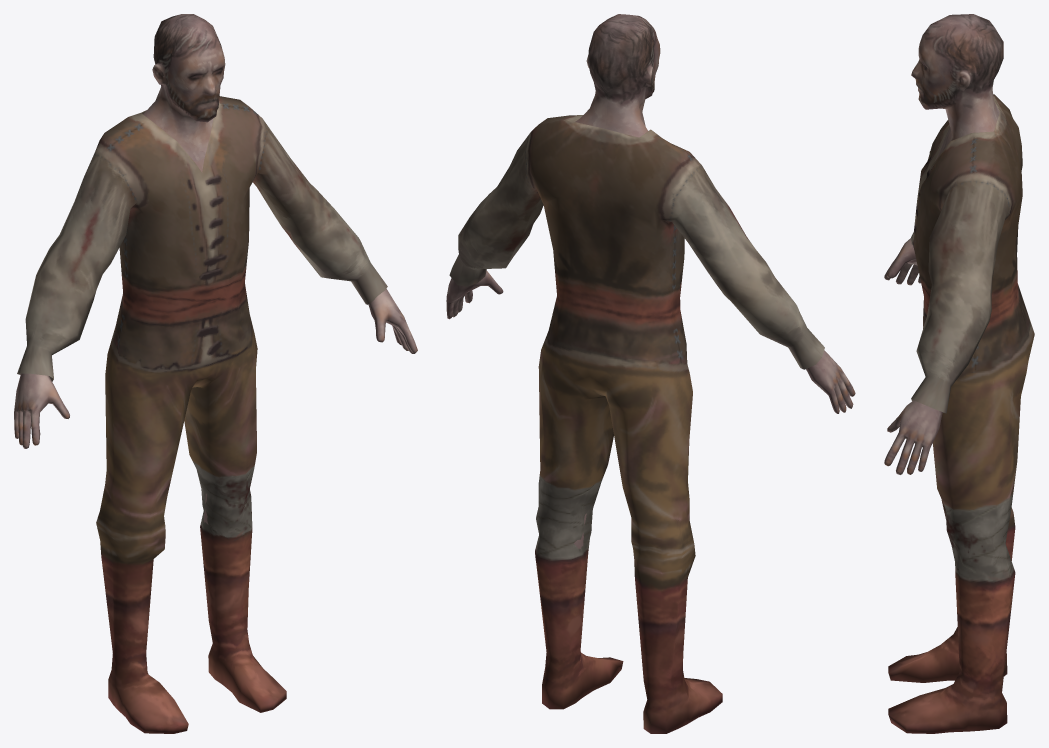
The model's file is Char2_All.fbx.
The picture shows the model from 3 angles, left to right: view 1: azimuth 30°, elevation 25°; view 2: azimuth 150°, elevation 25°; view 3: azimuth 270°, elevation 25°; orthographic projection.
Visible parts, largest first — view 1: C2_Cloth_low, C2_Body_low; view 2: C2_Cloth_low, C2_Body_low; view 3: C2_Cloth_low, C2_Body_low.
Boxes of the visible parts, bbox=[...] form: C2_Cloth_low: bbox=[17, 96, 387, 733]; C2_Body_low: bbox=[14, 14, 417, 524]; C2_Cloth_low: bbox=[449, 115, 824, 733]; C2_Body_low: bbox=[446, 14, 855, 548]; C2_Cloth_low: bbox=[888, 94, 1034, 733]; C2_Body_low: bbox=[884, 14, 1003, 474].
Bounding box in the file's own units: 105 × 174 × 34.88.
3 materials, 3 textured.
